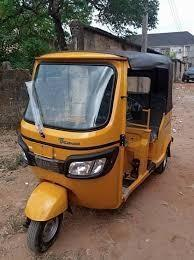keke: (16, 48, 180, 242)
